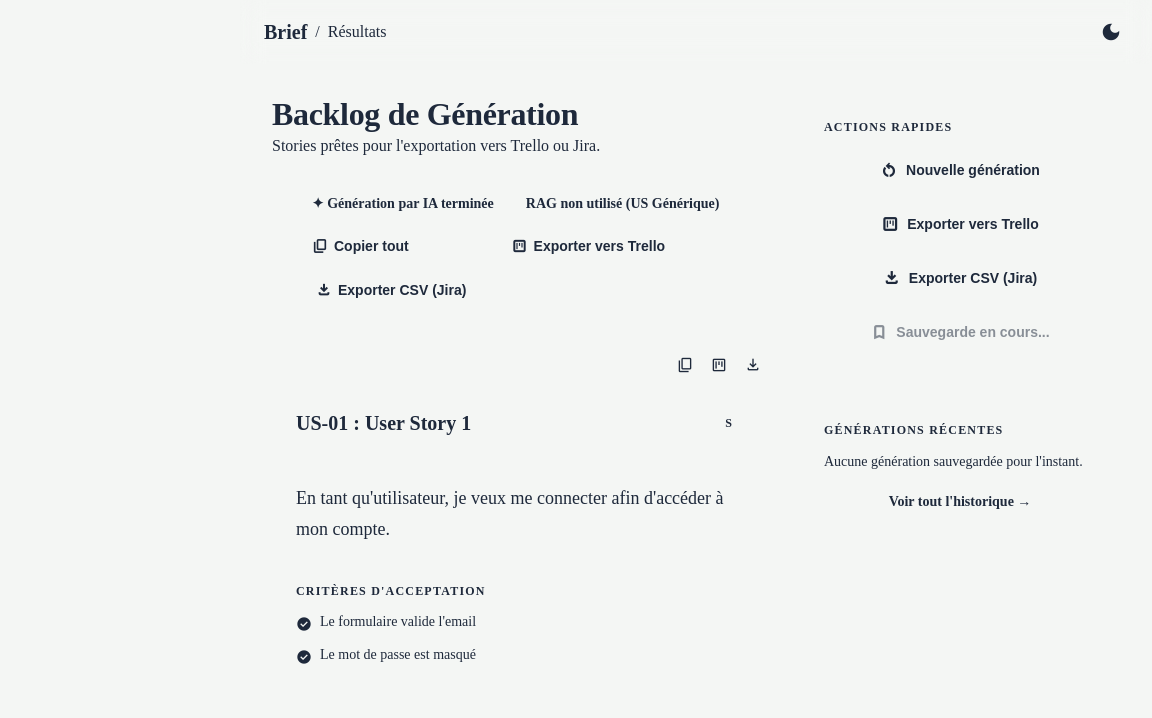
Results — boutons d'export par story › le clic sur le bouton Trello global affiche le message en haut de page, pas dans une story
Click the button "Exporter vers Trello" below "✦ Génération par IA terminée" at [618, 246], box [492,228,744,264]
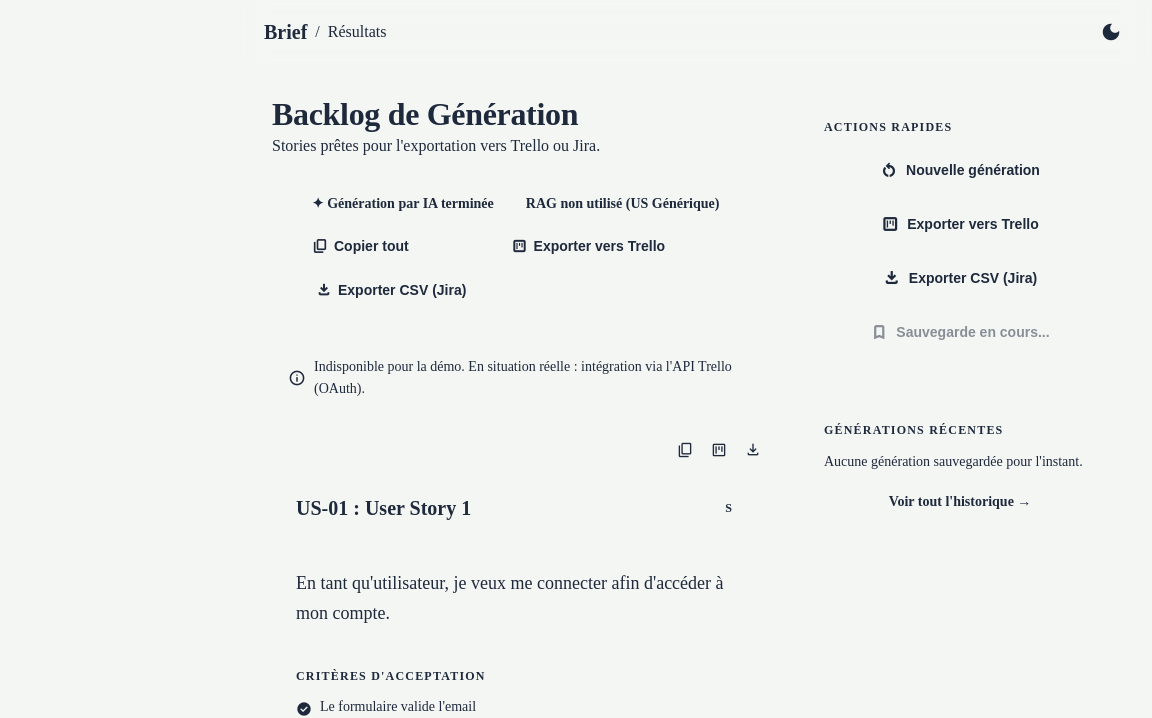
Expected: the text "Indisponible pour la démo" is shown, [314,359,732,396]
